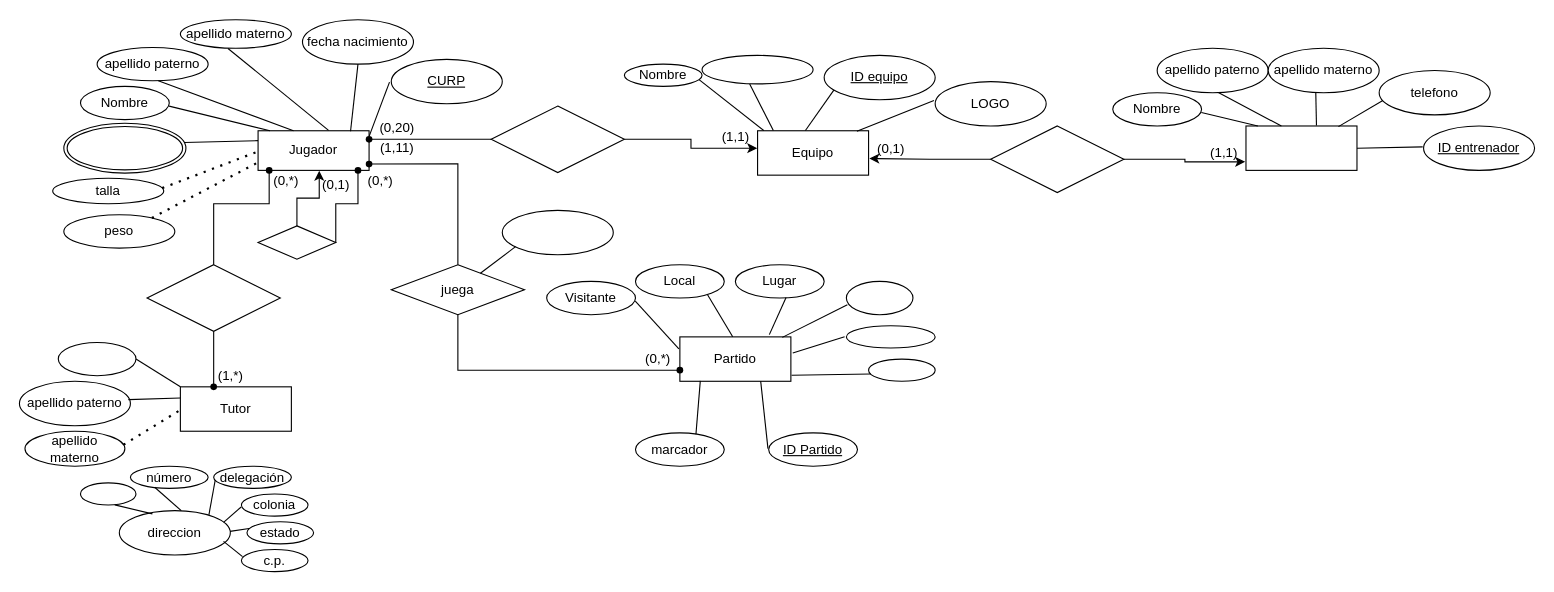
Image size: 1554x592. Some labels were removed from this diagram. The shapes that lost their labels are listed below. From the top down, each one's centre as x and y in pixels, then its label:
the point at 757,69: Fecha creación
the point at 124,147: telefono emergencia
the point at 557,139: pertenece
the point at 1057,159: Tiene
the point at 1301,147: Entrenador
the point at 296,242: lidera
the point at 557,232: goles
the point at 213,297: supervisa
the point at 879,297: Tipo
the point at 890,336: Fecha
the point at 96,358: ID Tutor
the point at 901,369: hora
the point at 107,493: calle
